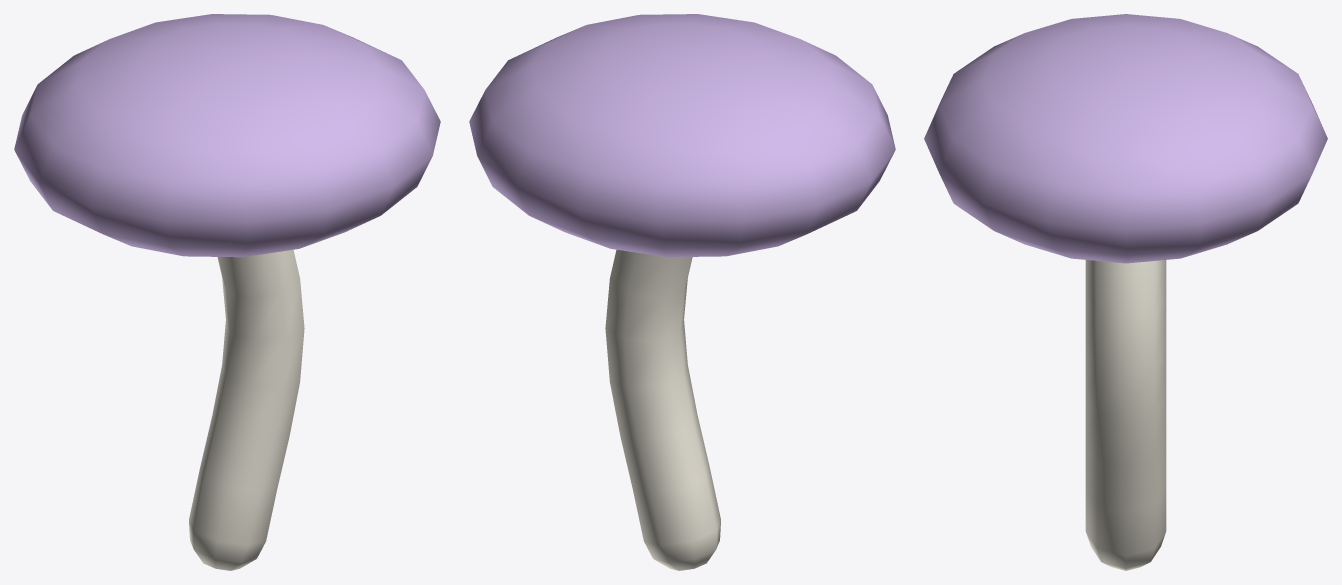
The model's file is mushroom_lilac.glb.
3 views of the same model, side by side, from view 1: azimuth 30°, elevation 25°; view 2: azimuth 150°, elevation 25°; view 3: azimuth 270°, elevation 25° (orthographic).
Parts seen in each view (by area): view 1: Cap, Stalk; view 2: Cap, Stalk; view 3: Cap, Stalk.
Boxes of the visible parts, x1=… form: Cap: x1=14, y1=14, x2=440, y2=257; Stalk: x1=189, y1=249, x2=304, y2=570; Cap: x1=469, y1=14, x2=895, y2=257; Stalk: x1=605, y1=249, x2=720, y2=570; Cap: x1=924, y1=14, x2=1327, y2=263; Stalk: x1=1085, y1=260, x2=1166, y2=570.
Bounding box in the file's own units: 0.3 × 0.3923 × 0.28.
